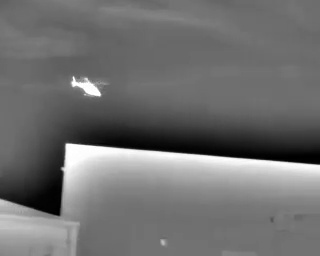HELICOPTER: (67, 71, 114, 105)
